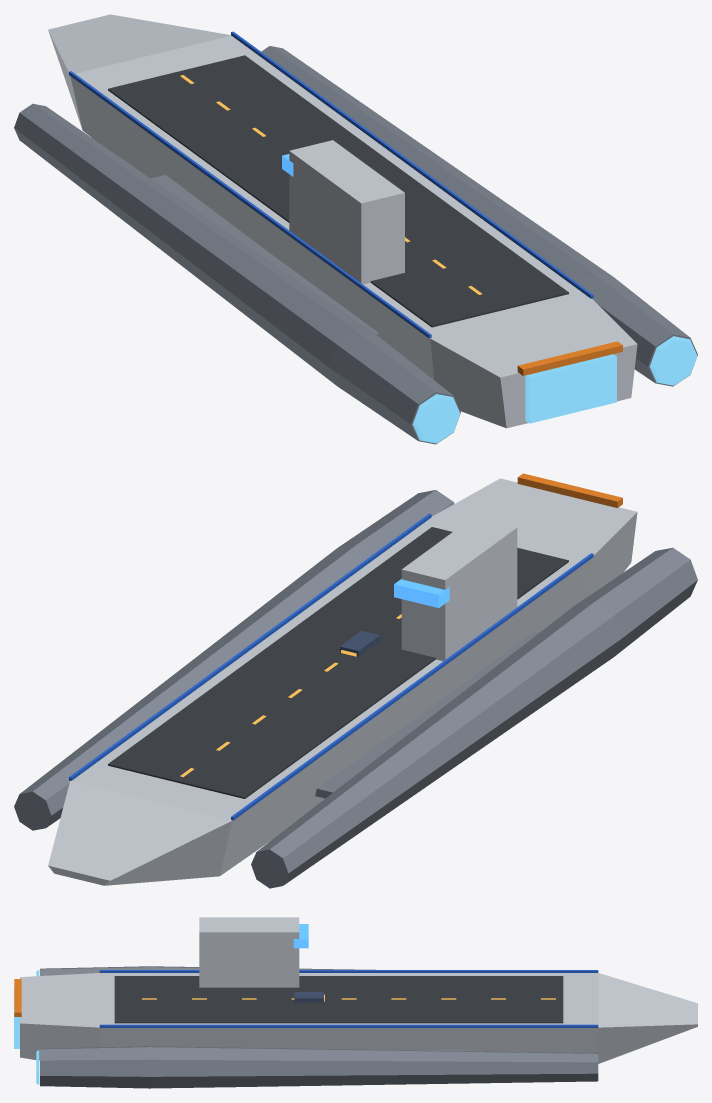
The model's file is ships.glb.
3 renders of one model, top to bottom at view 1: azimuth 30°, elevation 25°; view 2: azimuth 150°, elevation 25°; view 3: azimuth 270°, elevation 25°, orthographic. The views are drawn at different scales.
Parts seen in each view (by area): view 1: carrier; view 2: carrier, cruiser; view 3: carrier, cruiser.
Part boxes in pixels (bbox=[...]): carrier: bbox=[14, 14, 697, 444]; carrier: bbox=[14, 473, 697, 888]; cruiser: bbox=[340, 630, 380, 656]; carrier: bbox=[14, 917, 697, 1088]; cruiser: bbox=[294, 992, 324, 1002].
Bounding box in the file's own units: 47 × 23 × 137.
